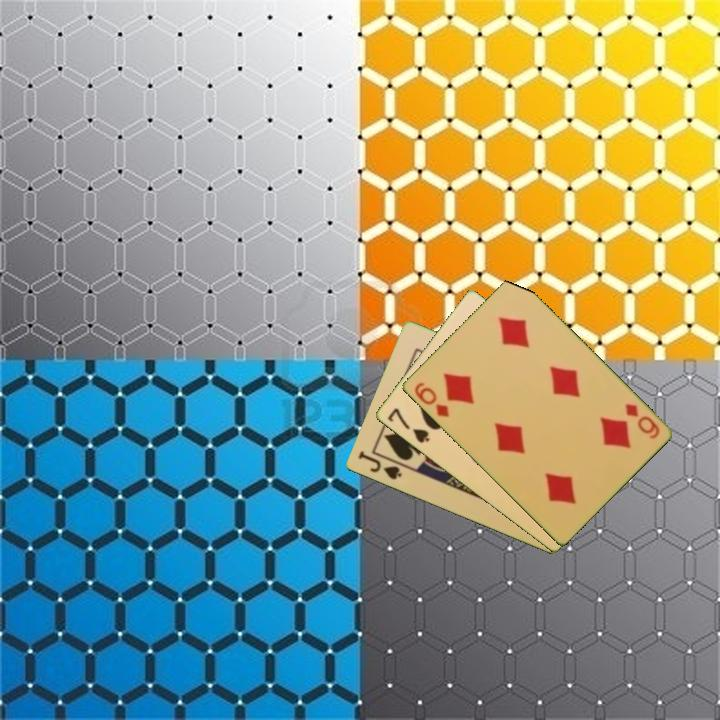6d: (410, 379, 452, 420), (621, 400, 662, 442)
7s: (384, 404, 432, 446)
Js: (354, 447, 404, 483)
